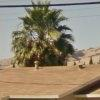Palm tree: (10, 2, 79, 62)
